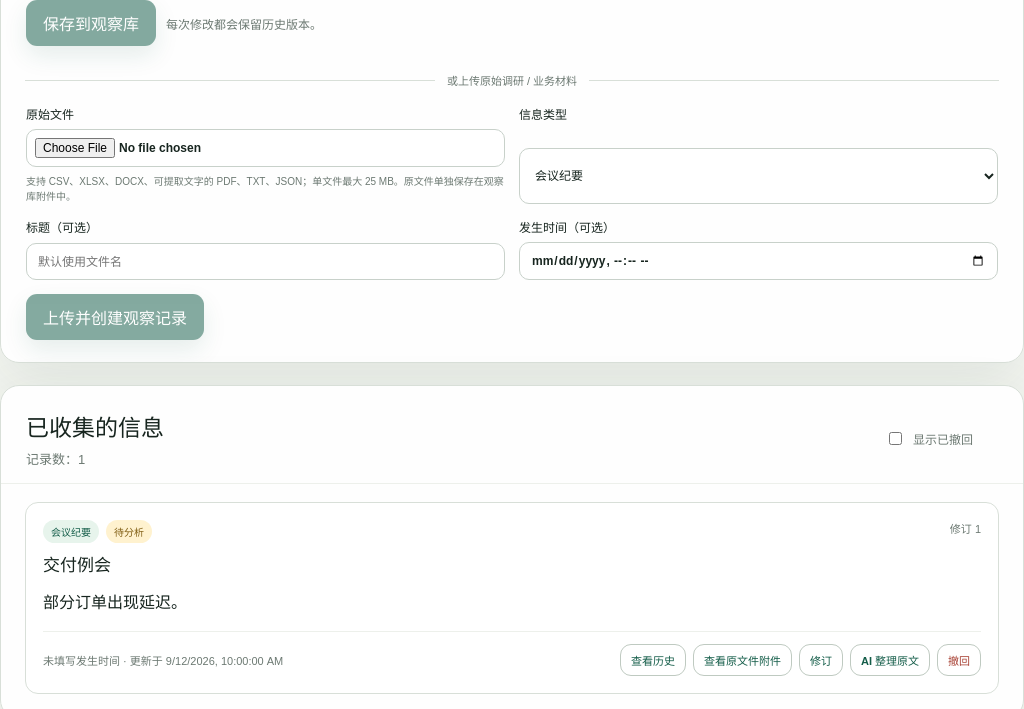
Scenario: shows revision history and withdraws without physically deleting the record
(page scrolled)
Click the button "查看历史" at (653, 660), box 620,644 -> 686,676
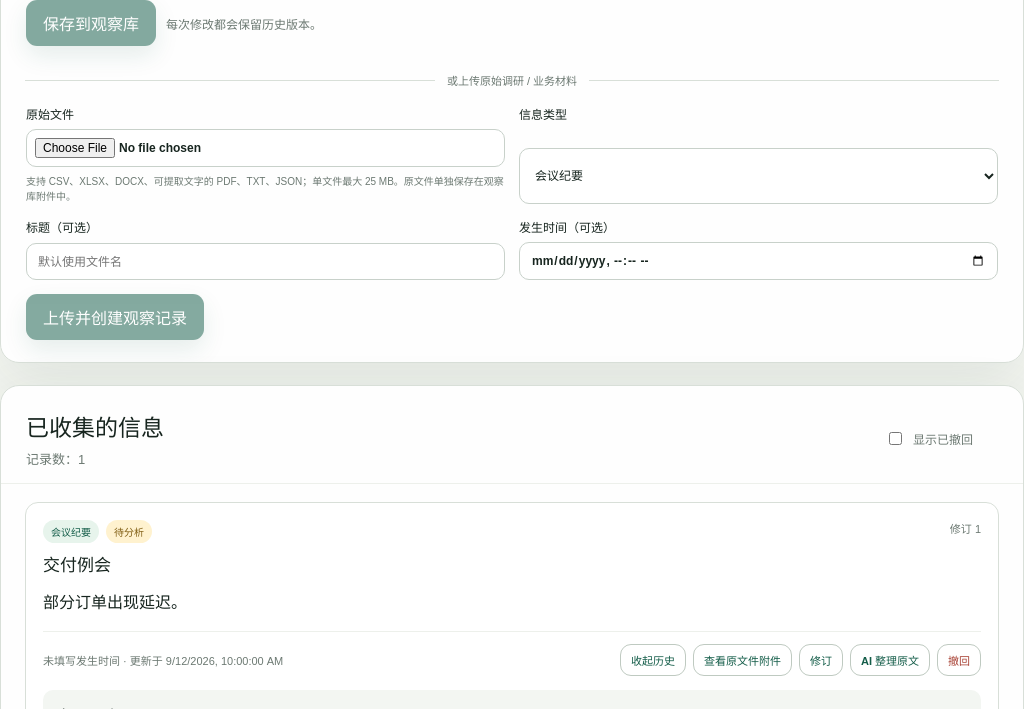
Click the button "撤回" at (959, 660), box 937,644 -> 981,676
(page scrolled)
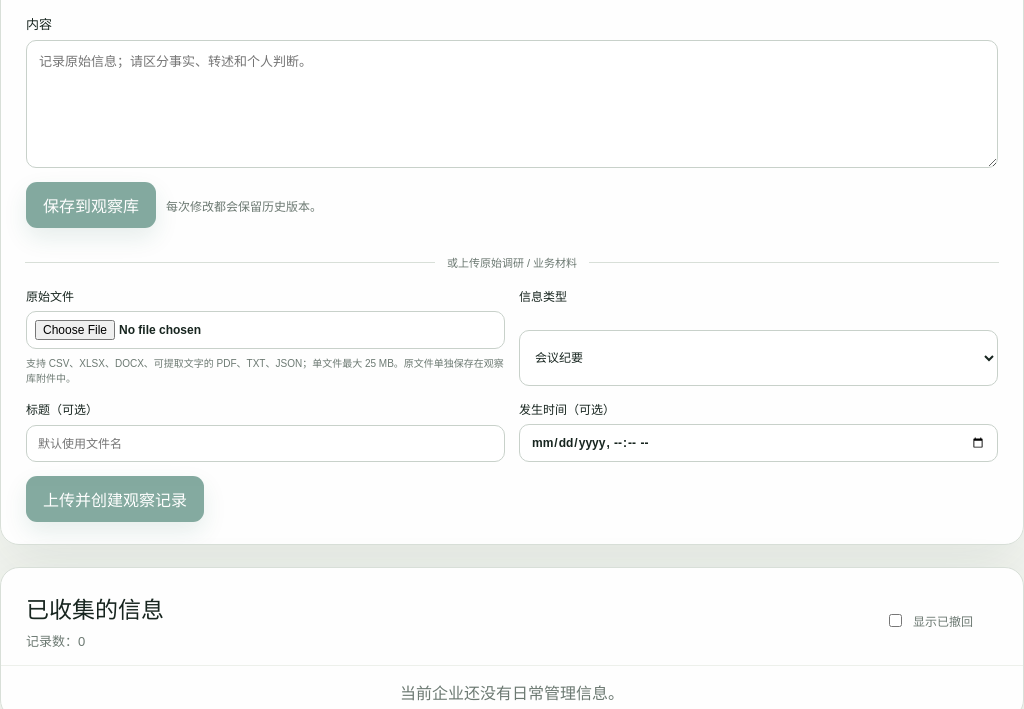
Click the checkbox labelled "显示已撤回" at (896, 620), box 889,614 -> 902,627
(page scrolled)
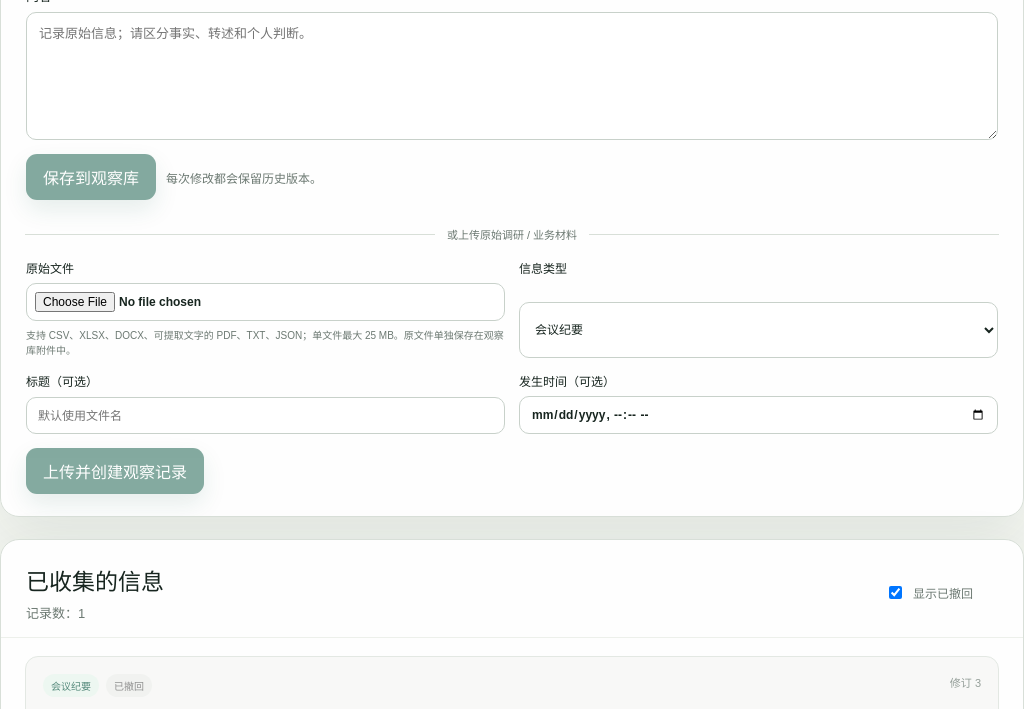
Check: the text "已撤回" is shown, box 106,674 -> 152,697
